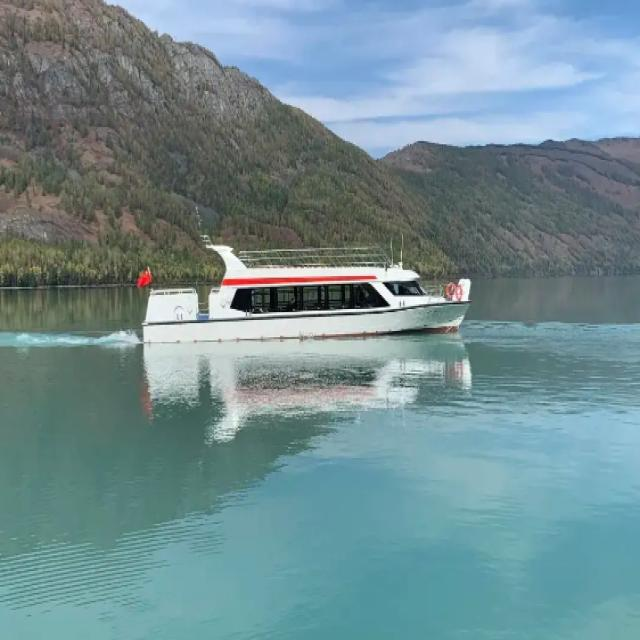houseboat: (143, 226, 480, 353)
